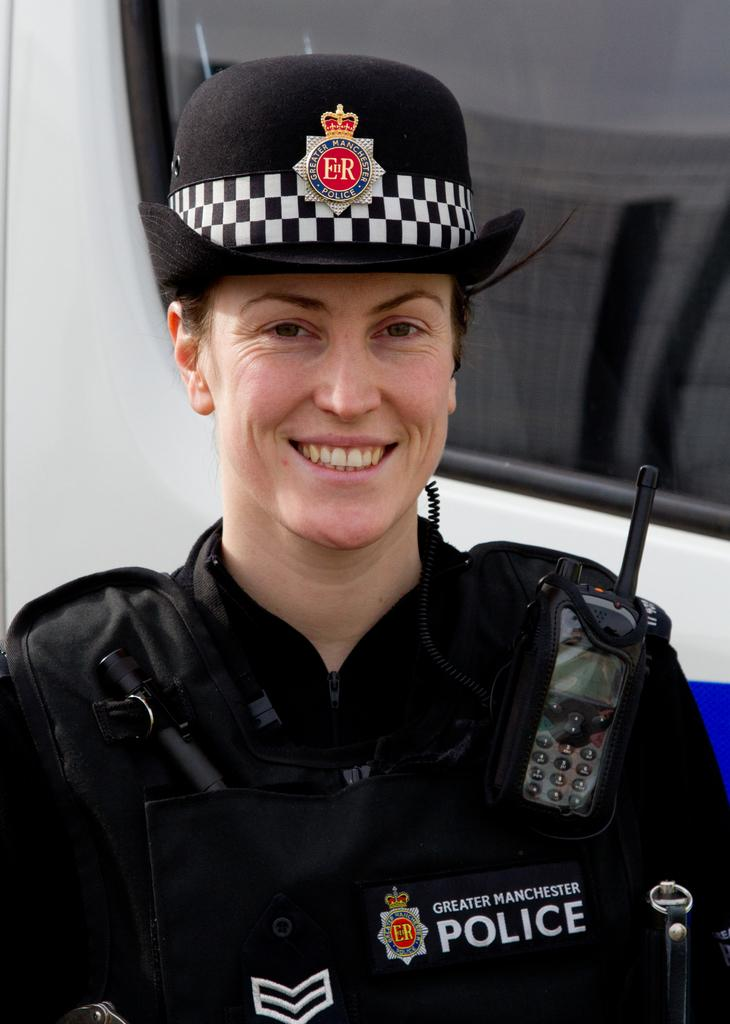Hat: (137, 50, 530, 292)
